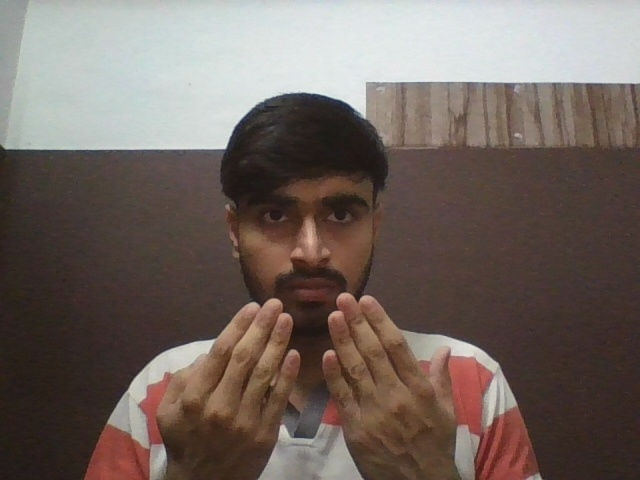Thankyou: (155, 290, 457, 476)
